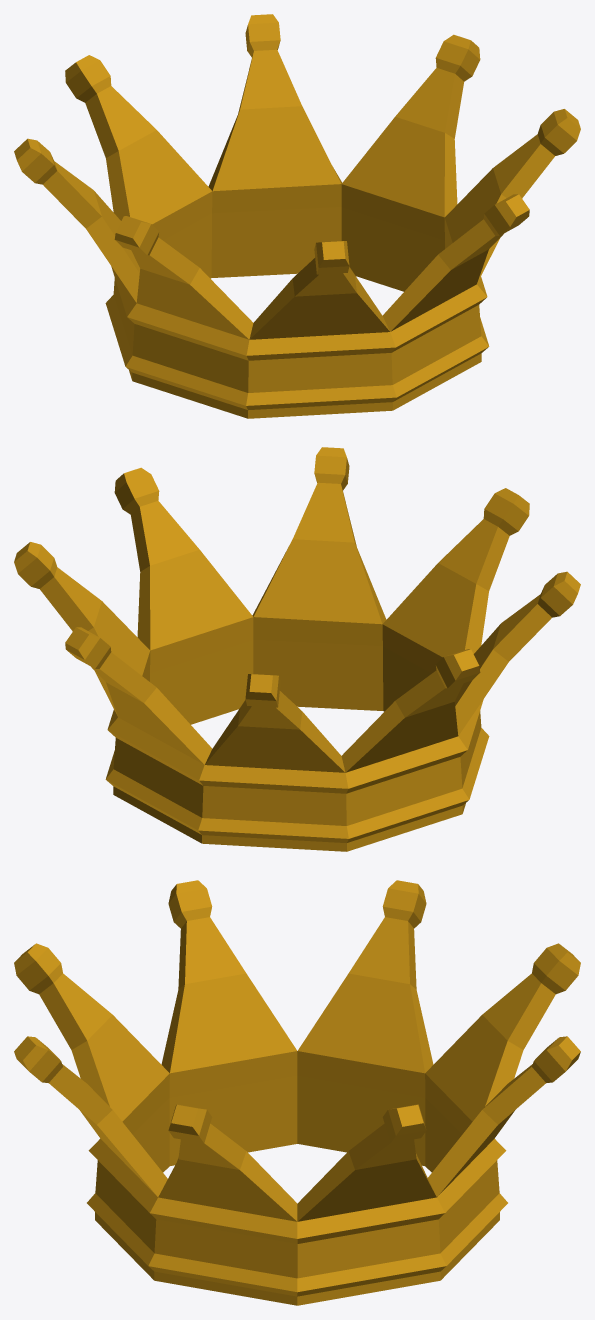
Rendered from Crown.obj.
The picture shows the model from 3 angles, top to bottom: view 1: azimuth 30°, elevation 25°; view 2: azimuth 150°, elevation 25°; view 3: azimuth 270°, elevation 25°; orthographic projection. The views are drawn at different scales.
Parts seen in each view (by area): view 1: Circle_Circle.001; view 2: Circle_Circle.001; view 3: Circle_Circle.001.
Part boxes in pixels (x1,y1,x2,y2): Circle_Circle.001: (14,14,580,418); Circle_Circle.001: (14,447,580,851); Circle_Circle.001: (14,880,580,1305).
Size of the model in its own units: 11.77 by 5.18 by 11.77.
